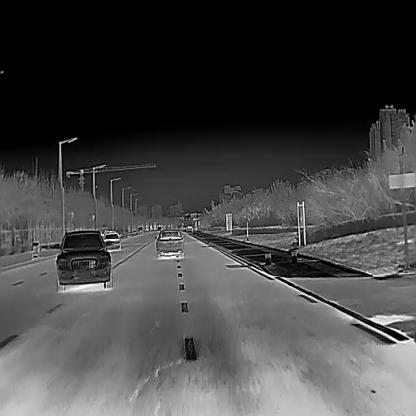car: (56, 230, 112, 292), (156, 229, 184, 259), (102, 232, 121, 252), (185, 225, 193, 232)
